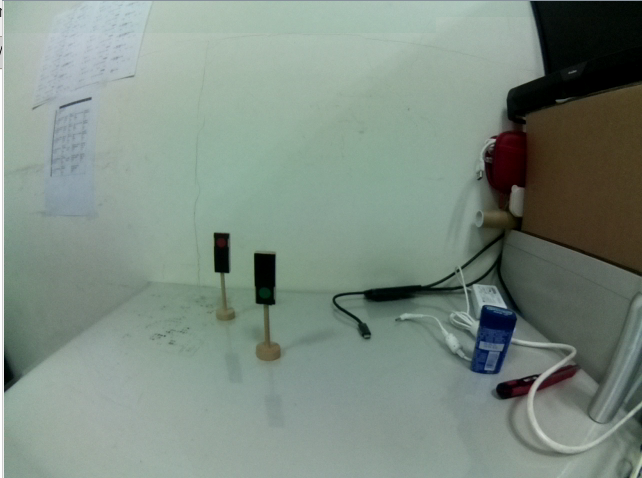Green: (250, 247, 282, 311)
Red: (210, 228, 234, 277)
